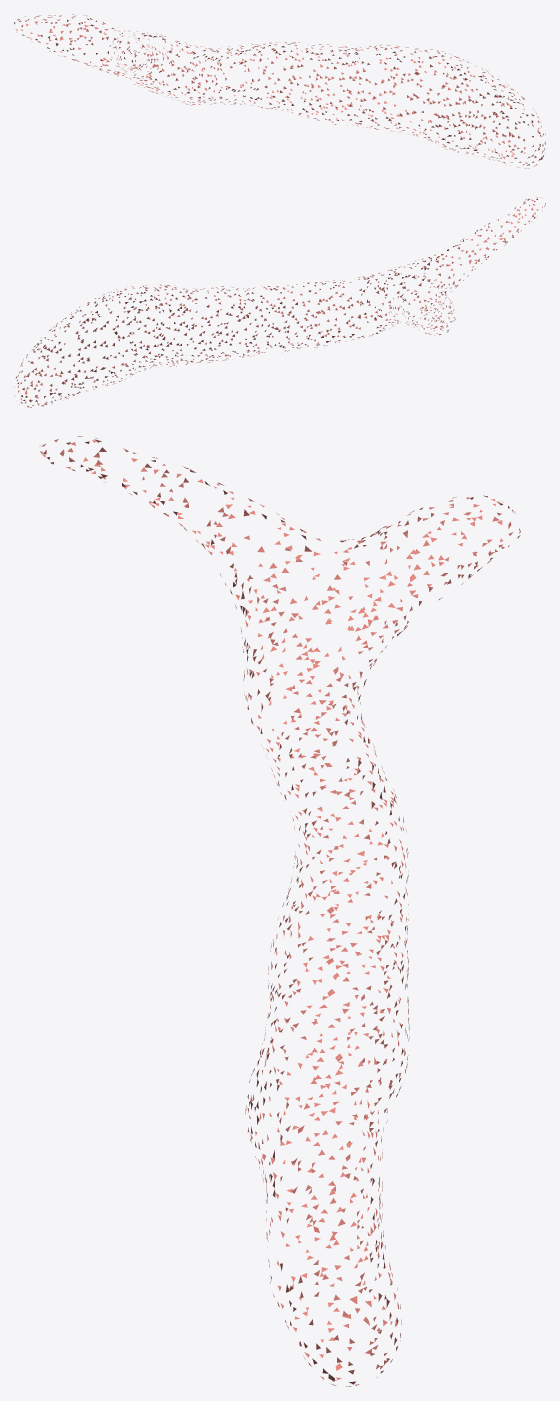
Rendered from morph_001.glb.
The picture shows the model from 3 angles, top to bottom: view 1: azimuth 30°, elevation 25°; view 2: azimuth 150°, elevation 25°; view 3: azimuth 270°, elevation 25°; orthographic projection. The views are drawn at different scales.
Size of the model in its own units: 111 by 59.58 by 49.45.
